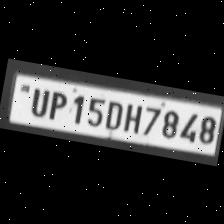1: (64, 90, 86, 125)
4: (176, 108, 200, 143)
5: (82, 94, 106, 128)
7: (138, 103, 160, 136)
8: (193, 112, 218, 146), (156, 106, 180, 140)
D: (100, 96, 125, 130)
H: (119, 100, 144, 134)
P: (43, 87, 70, 121)
U: (24, 83, 52, 117)
